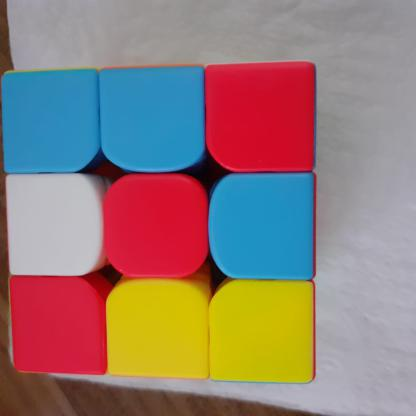cube: (2, 55, 323, 387)
